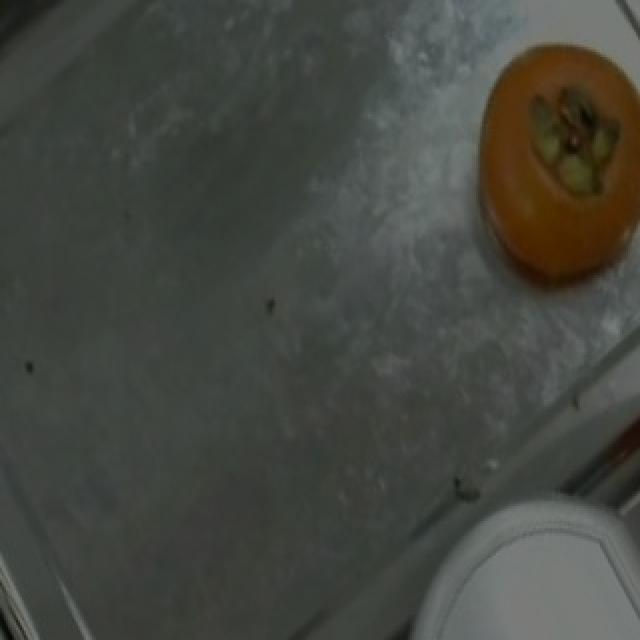Fruit: (448, 20, 638, 305), (422, 501, 640, 640)
